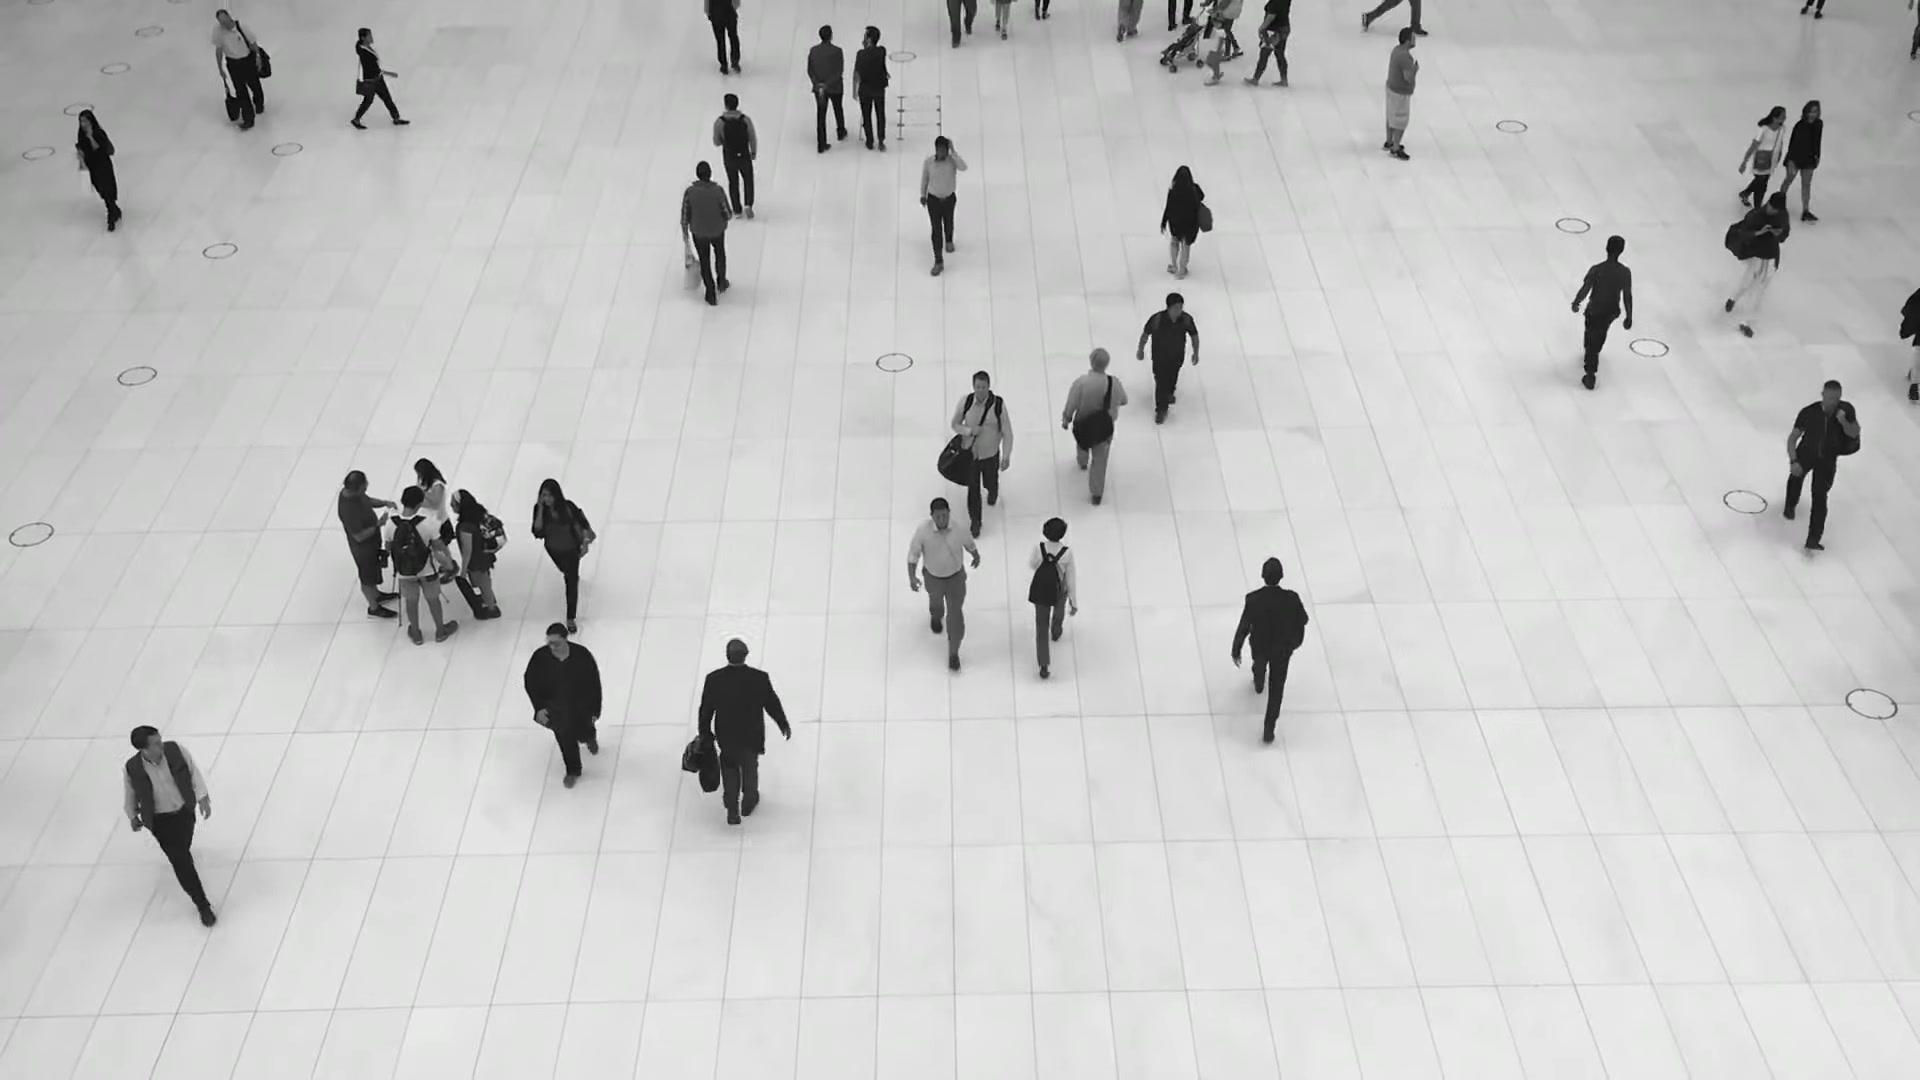person: (122, 719, 214, 917), (702, 643, 781, 850), (527, 623, 607, 801), (1231, 553, 1311, 727), (1781, 377, 1863, 541), (908, 493, 982, 660), (383, 485, 458, 646), (953, 371, 1014, 545), (1062, 346, 1127, 499), (531, 474, 598, 624), (1724, 191, 1790, 339), (338, 469, 400, 621), (1572, 235, 1633, 385), (1026, 514, 1079, 669), (682, 163, 734, 309), (915, 131, 966, 266), (450, 488, 502, 620), (209, 7, 265, 128), (1143, 290, 1198, 416), (714, 96, 762, 228), (1161, 167, 1213, 281), (413, 458, 459, 584), (76, 109, 123, 232), (807, 24, 850, 152), (1382, 26, 1421, 161), (1780, 99, 1824, 218), (353, 26, 404, 129), (1741, 104, 1787, 208), (854, 26, 891, 155), (1250, 0, 1297, 90), (1199, 17, 1229, 86)
